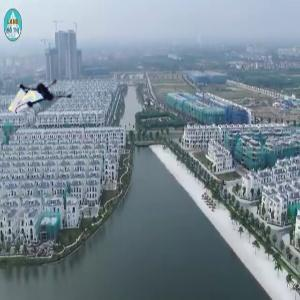drone: (16, 65, 80, 129)
